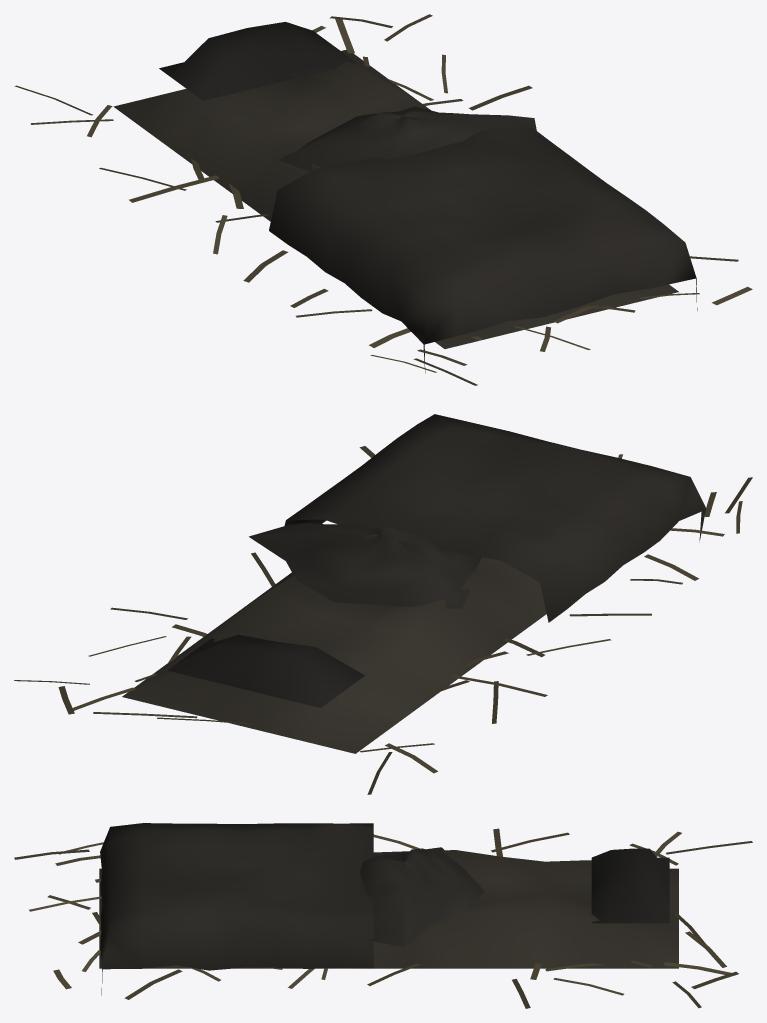
Rendered from prop_inn_pallet.glb.
The picture shows the model from 3 angles, top to bottom: view 1: azimuth 30°, elevation 25°; view 2: azimuth 150°, elevation 25°; view 3: azimuth 270°, elevation 25°; orthographic projection. The views are drawn at different scales.
Parts seen in each view (by area): view 1: InnPalletSoft, InnPallet; view 2: InnPalletSoft, InnPallet; view 3: InnPalletSoft, InnPallet.
Boxes of the visible parts, <box> form: InnPalletSoft: <box>113,22,697,373</box>; InnPallet: <box>14,14,752,385</box>; InnPalletSoft: <box>122,414,705,753</box>; InnPallet: <box>14,446,752,794</box>; InnPalletSoft: <box>99,823,678,995</box>; InnPallet: <box>14,828,752,1008</box>.
Bounding box in the file's own units: 1.36 × 0.3258 × 2.37.
